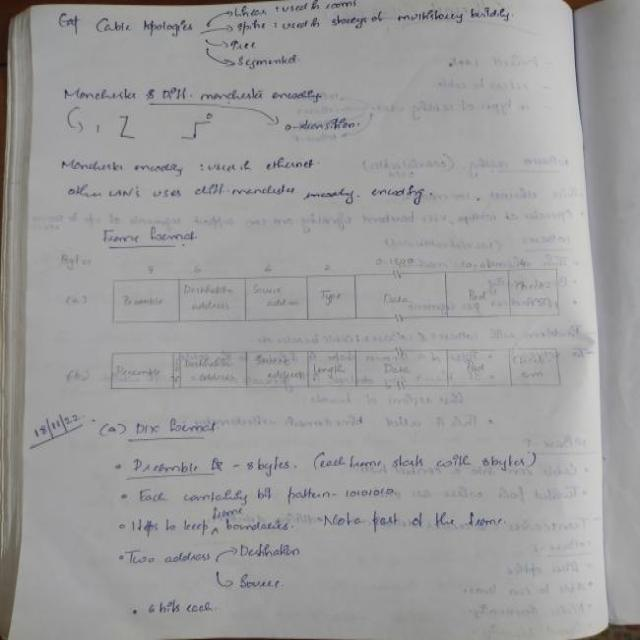Figure Detection - v3 Dataset Version2: (47, 246, 584, 406)
